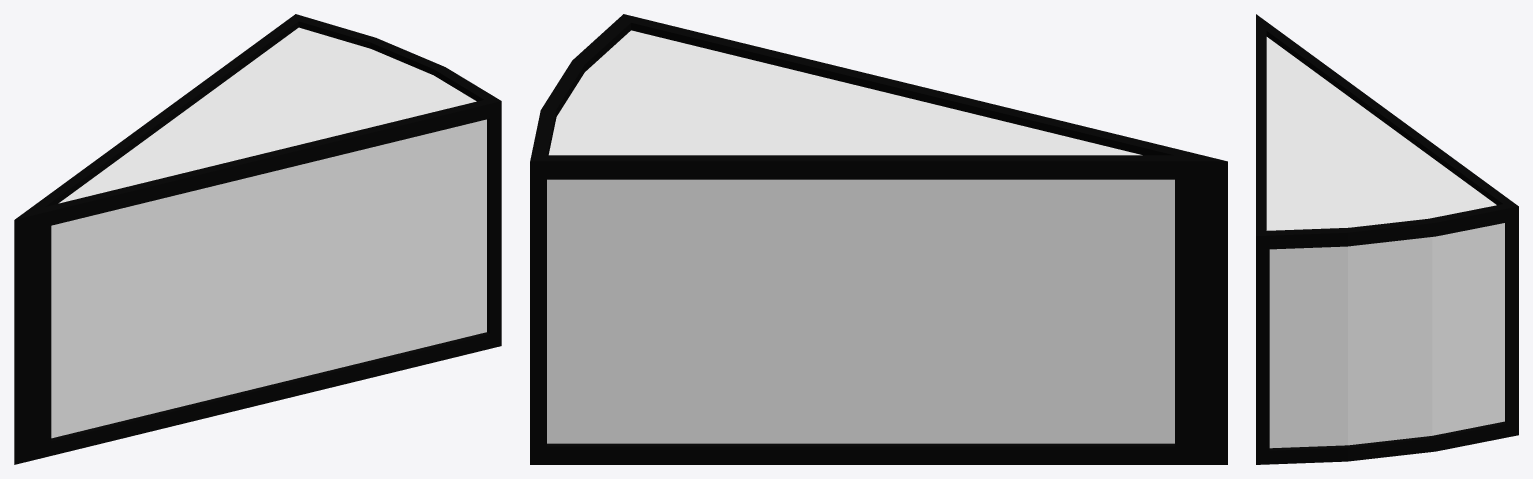
File: block.obj
3 renders of one model, left to right at view 1: azimuth 30°, elevation 25°; view 2: azimuth 150°, elevation 25°; view 3: azimuth 270°, elevation 25°, orthographic. The views are drawn at different scales.
Parts seen in each view (by area): view 1: 円柱.003_円柱.010; view 2: 円柱.003_円柱.010; view 3: 円柱.003_円柱.010.
Boxes of the visible parts, left/top/right/bottom form: 円柱.003_円柱.010: left=14, top=14, right=501, bottom=464; 円柱.003_円柱.010: left=530, top=14, right=1227, bottom=464; 円柱.003_円柱.010: left=1256, top=14, right=1518, bottom=464.
Bounding box in the file's own units: 1 × 0.4801 × 0.5.
Materials: 1 (1 with a texture image).
